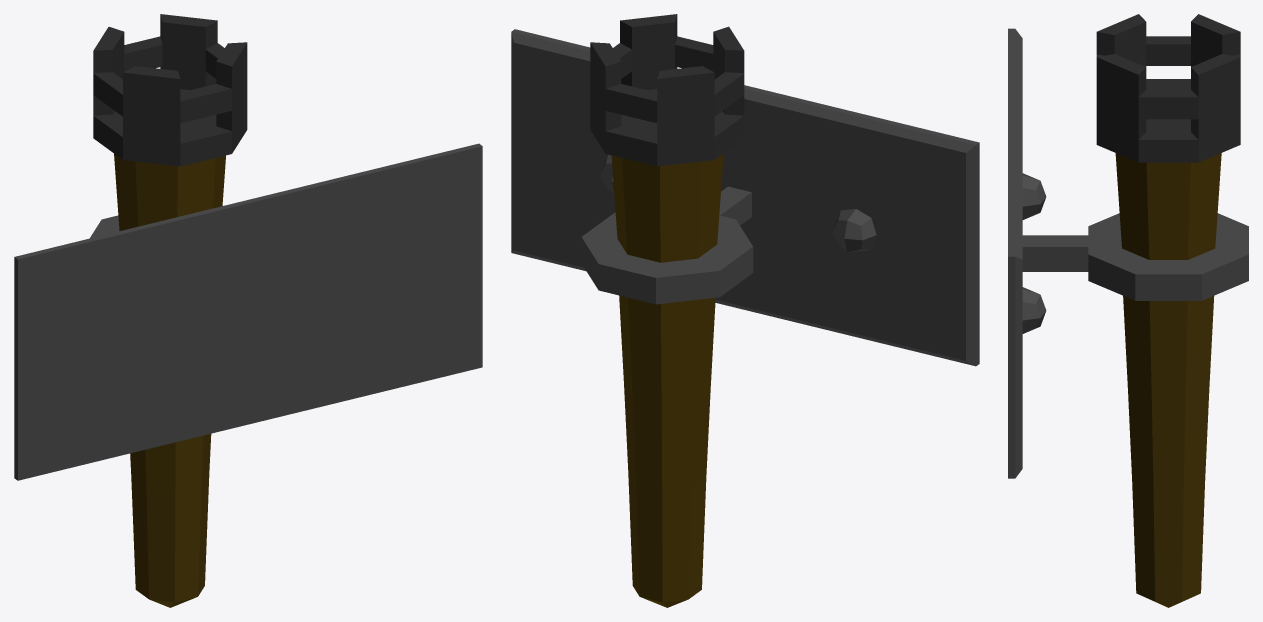
File: torchModel.fbx
3 renders of one model, left to right at view 1: azimuth 30°, elevation 25°; view 2: azimuth 150°, elevation 25°; view 3: azimuth 270°, elevation 25°, orthographic.
Visible parts, largest first — view 1: pCube5, pCylinder4; view 2: pCube5, pCylinder4, polySurface4, pCube6; view 3: pCylinder4, pCube5, pCube6, polySurface3, polySurface4.
Boxes of the visible parts, x1,y1,x2,y2 form: pCube5: [14, 143, 482, 480]; pCylinder4: [89, 14, 247, 607]; pCube5: [511, 29, 979, 366]; pCylinder4: [581, 14, 753, 607]; polySurface4: [832, 209, 876, 252]; pCube6: [719, 186, 751, 225]; pCylinder4: [1088, 14, 1248, 607]; pCube5: [1008, 28, 1022, 478]; pCube6: [1022, 235, 1088, 271]; polySurface3: [1022, 287, 1046, 333]; polySurface4: [1022, 173, 1046, 219].
Bounding box in the file's own units: 19.57 × 22.58 × 8.75.
